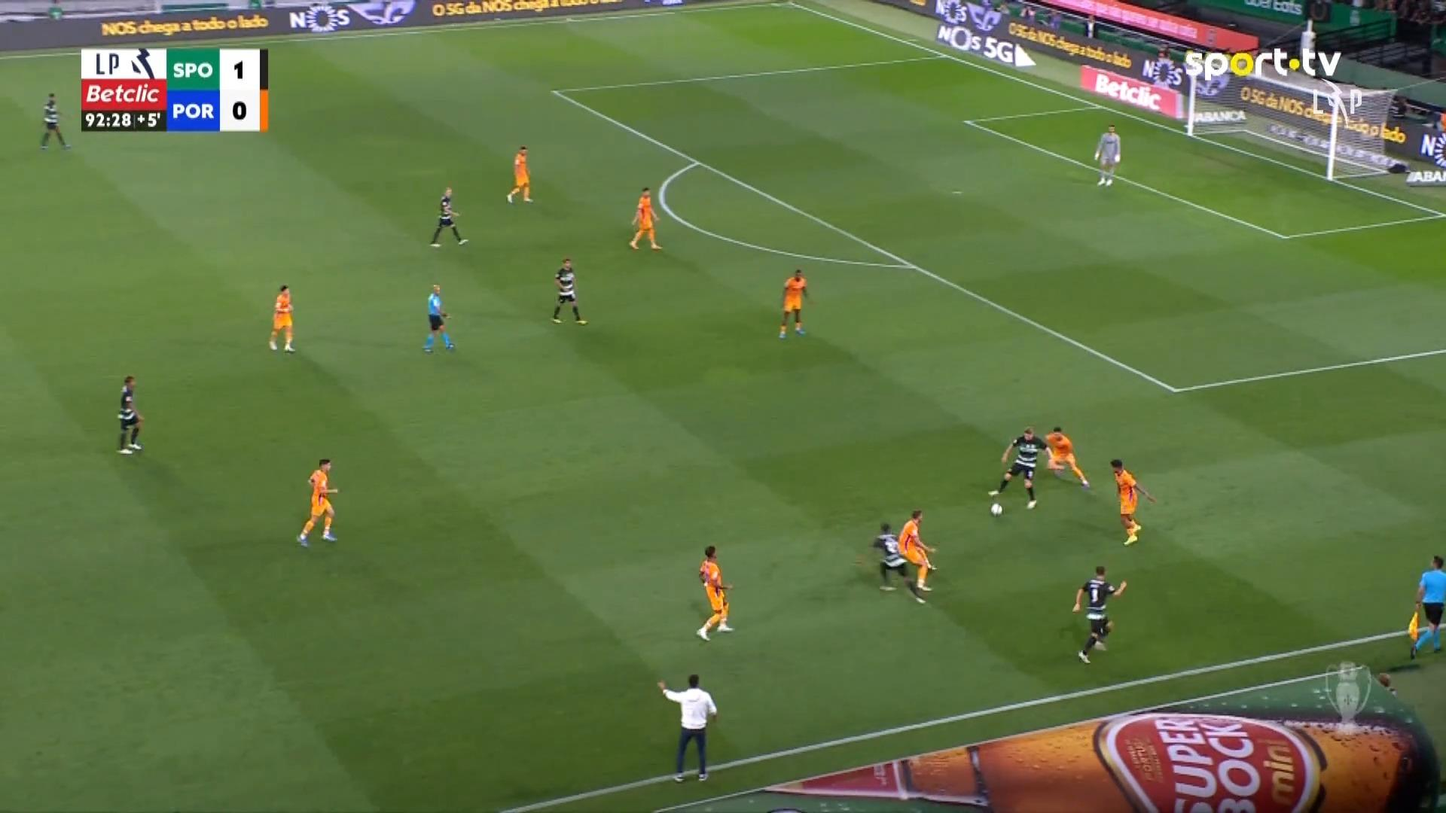ball: (990, 502, 1002, 516)
goalkeeper: (1093, 123, 1121, 186)
player: (1071, 565, 1127, 664), (987, 426, 1049, 510), (871, 522, 925, 604), (1109, 458, 1156, 545), (695, 544, 734, 641), (297, 458, 339, 547), (897, 509, 938, 591), (1044, 425, 1090, 488), (551, 257, 587, 324), (429, 186, 468, 247), (627, 186, 662, 251), (116, 375, 144, 454), (778, 268, 808, 338), (39, 92, 71, 150), (268, 284, 295, 352), (505, 145, 533, 204)
referee: (1408, 554, 1444, 659), (422, 283, 455, 352)
